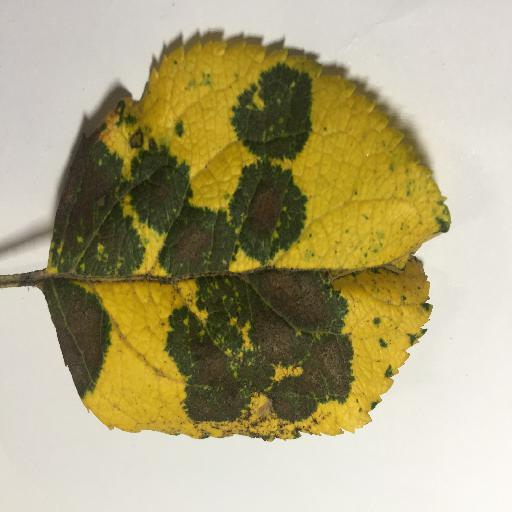Brown_Spot: (150, 275, 341, 421), (48, 297, 106, 371), (155, 217, 225, 274), (249, 184, 291, 232)
